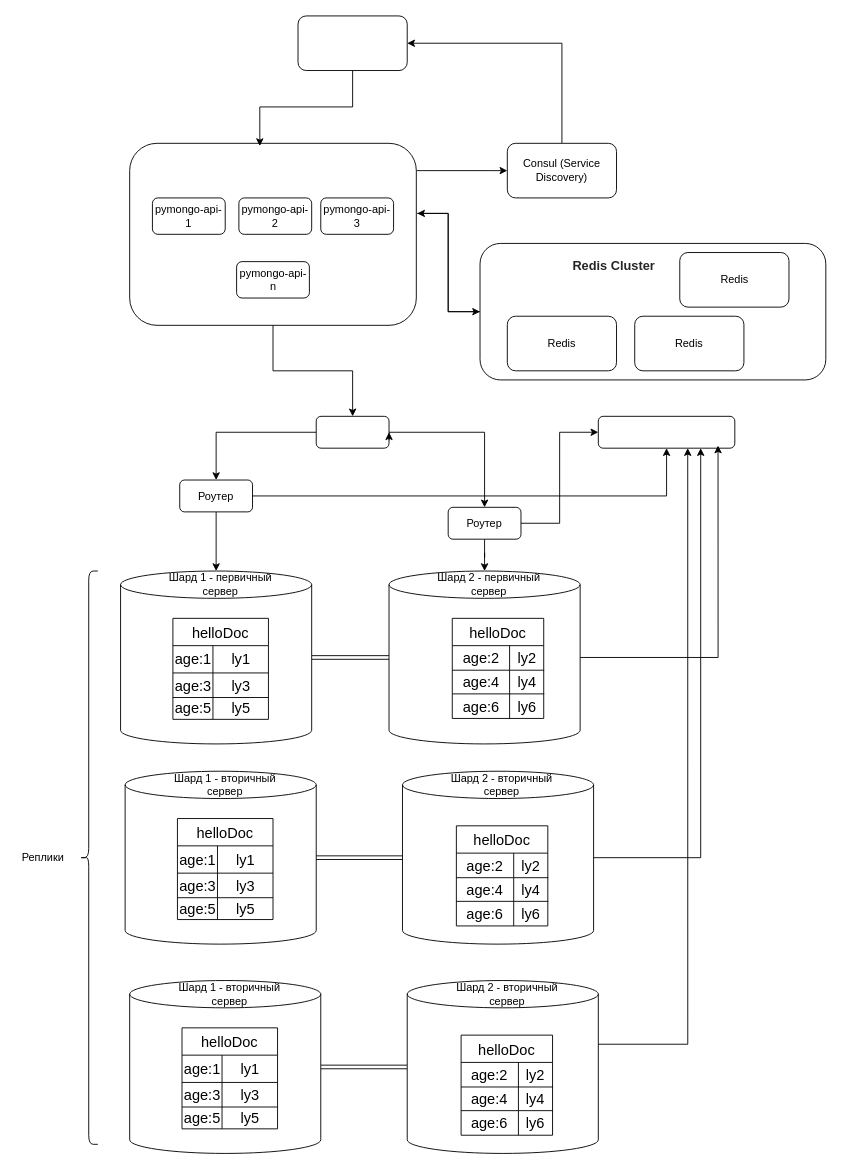
Some shapes in this 842 by 1169 pixel diagram are drawn without their labels. Each missing label, with the centre of its shape:
API GATEWAY: the point at 352,43
Драйвер: the point at 352,431
Конфигурационный сервер: the point at 666,431
